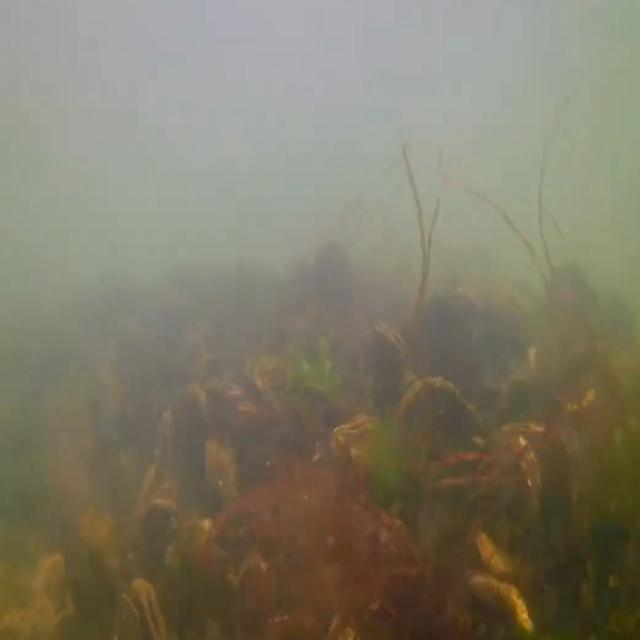Oyster-Closed: (372, 319, 411, 432), (158, 513, 216, 565), (330, 411, 382, 460)
Oyster-Indeterminate: (394, 377, 491, 476), (472, 430, 544, 524), (174, 382, 212, 499), (473, 517, 542, 580), (468, 571, 540, 631), (139, 408, 177, 504), (204, 437, 242, 512), (130, 478, 180, 525)
Oyster-Open: (112, 575, 167, 640)
